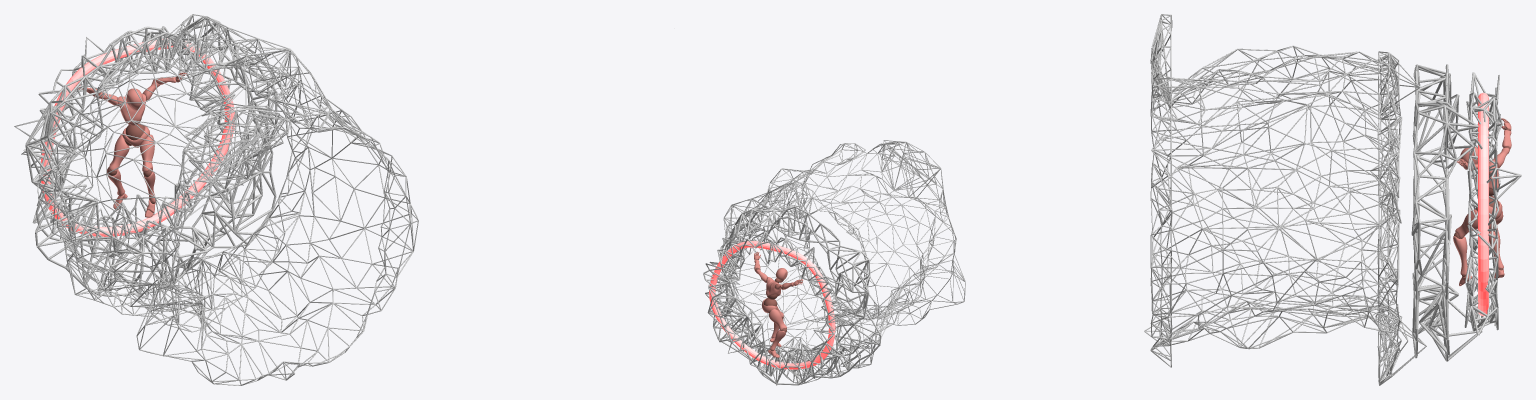
The model's file is mesh_man.glb.
3 renders of one model, left to right at view 1: azimuth 30°, elevation 25°; view 2: azimuth 150°, elevation 25°; view 3: azimuth 270°, elevation 25°, orthographic. The views are drawn at different scales.
Visible parts, largest first — view 1: BézierCircle.002; view 2: BézierCircle.002; view 3: BézierCircle.002.
Boxes of the visible parts, x1,y1,x2,y2 form: BézierCircle.002: (14,14,418,385); BézierCircle.002: (703,140,965,385); BézierCircle.002: (1144,14,1521,385).
Bounding box in the file's own units: 5.24 × 3.95 × 4.92.
